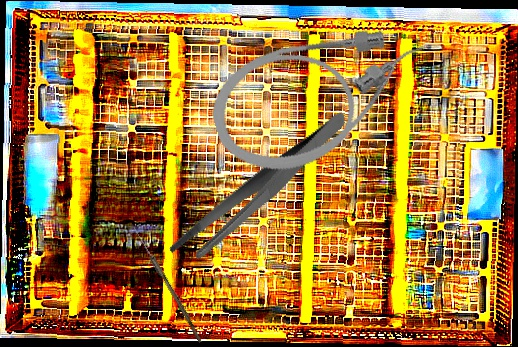Cannula: (199, 9, 445, 187)
Dressing Forceps: (146, 110, 374, 269)
Surgical Spoon: (131, 226, 205, 344)
